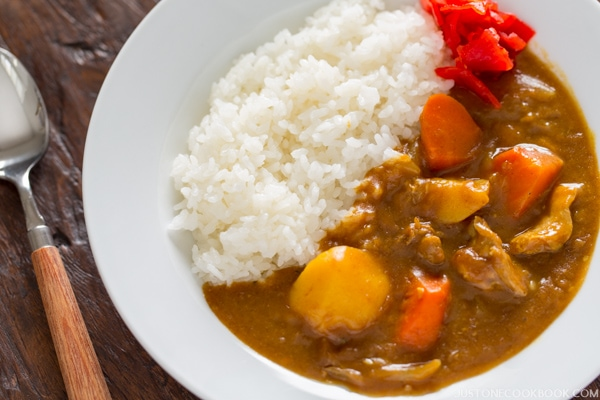curry: (300, 94, 565, 357), (360, 160, 552, 349), (258, 228, 485, 383), (423, 65, 585, 246)
